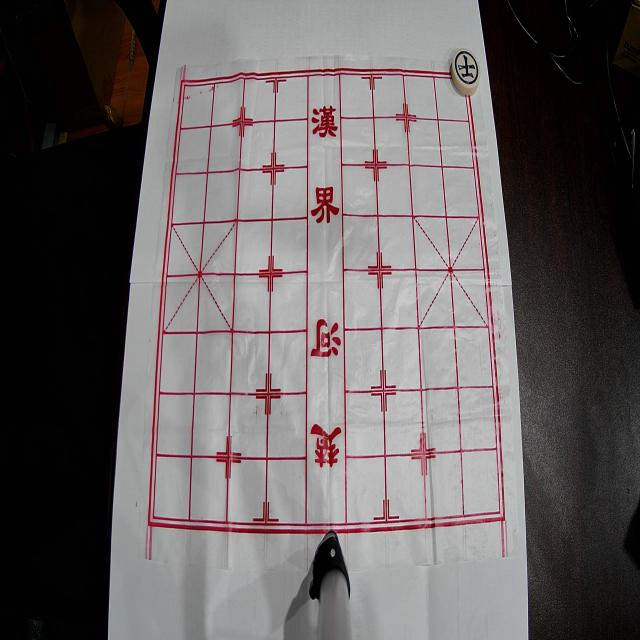black-guard: (452, 48, 481, 96)
